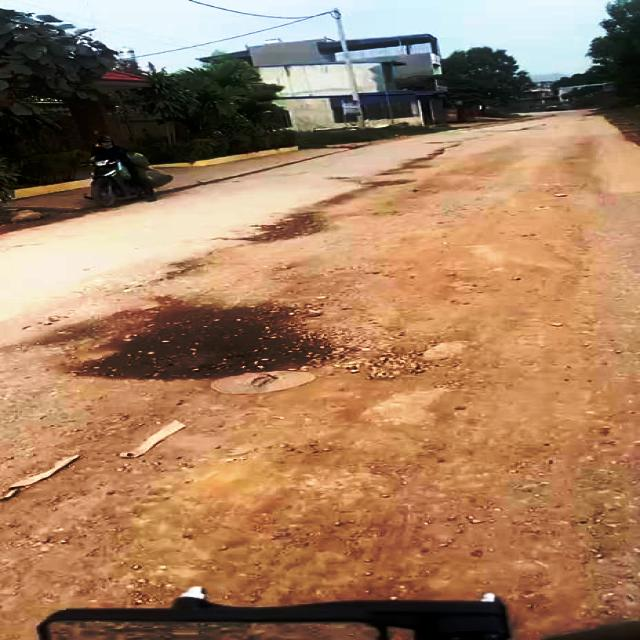pothole: (345, 235, 603, 383), (51, 301, 360, 382), (236, 207, 336, 245)
